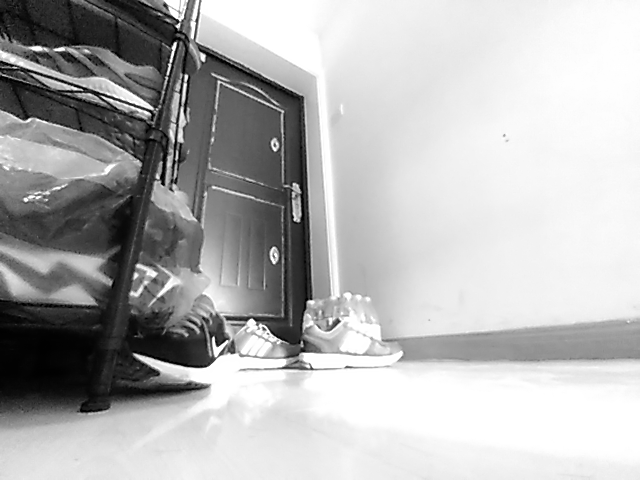shoe: (109, 293, 238, 391), (299, 311, 404, 371), (233, 319, 301, 370)
